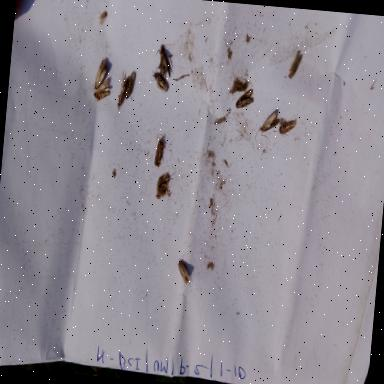pbw: (148, 132, 174, 170), (150, 46, 177, 82), (112, 70, 130, 120), (148, 68, 176, 99), (86, 74, 112, 105), (174, 250, 195, 288), (88, 58, 111, 92), (233, 86, 258, 116), (276, 114, 300, 142), (122, 68, 140, 105), (258, 106, 280, 136), (153, 171, 173, 203), (287, 50, 305, 82)
